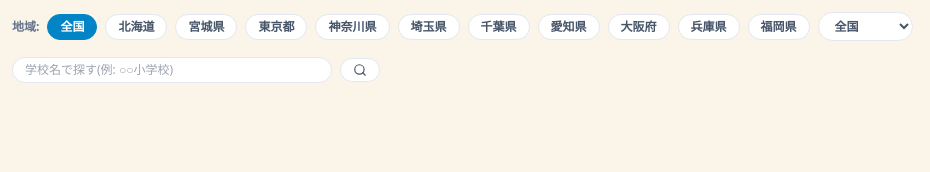
it: ReportRegionFilter › 新しい学校検索を始めると前回を中止し、古い結果で上書きしない
This screenshot has width=930, height=172.
expect the form named "学校名で探す" is shown: met, box [12, 57, 380, 83]
Type "古い小学校" into the field labelled "学校名で探す" at (172, 70), box [12, 57, 332, 83]
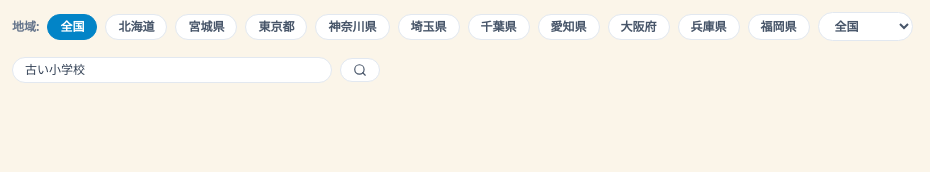
Submit the form named "学校名で探す", box [12, 57, 380, 83]
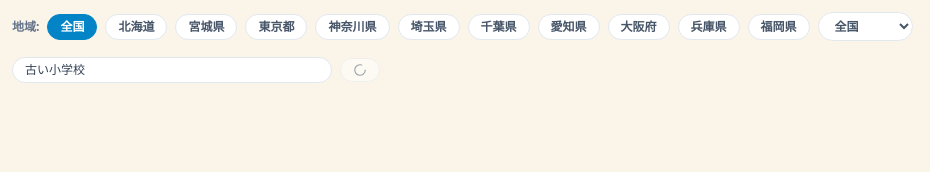
Replace the text in the field named "学校名で探す" with "新しい小学校" at (172, 70), box [12, 57, 332, 83]
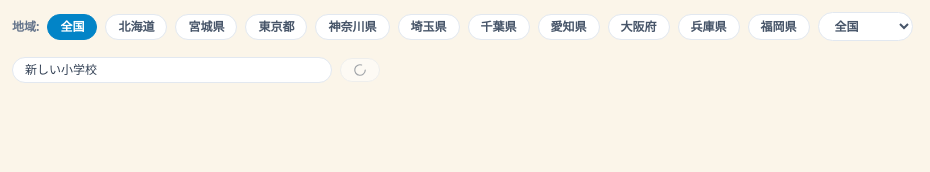
Submit the form named "学校名で探す", box [12, 57, 380, 83]
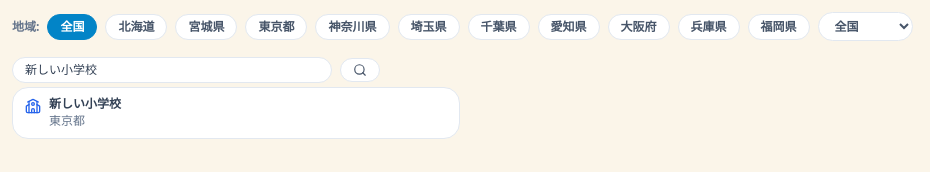
expect the button "古い小学校" is not shown: met
expect the button "新しい小学校 東京都" is shown: met, box [13, 88, 459, 138]
